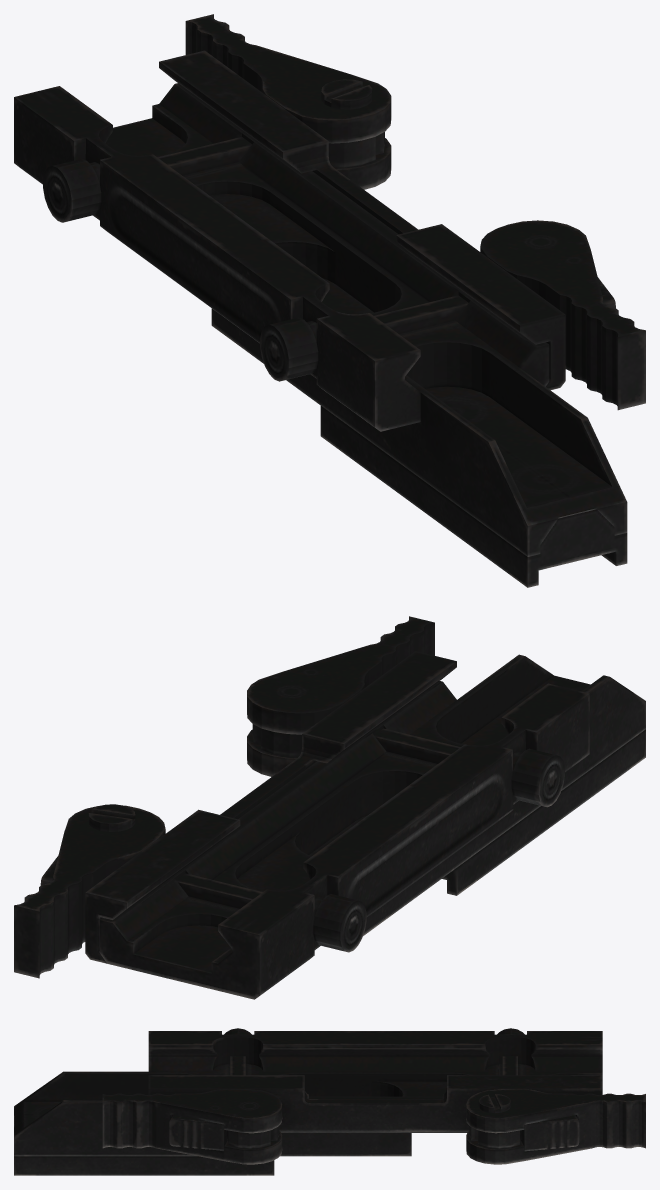
The picture shows the model from 3 angles, top to bottom: view 1: azimuth 30°, elevation 25°; view 2: azimuth 150°, elevation 25°; view 3: azimuth 270°, elevation 25°; orthographic projection. The views are drawn at different scales.
Visible parts, largest first — view 1: TW_63fc449f5bd61c6cf3784a88_PZ_Import; view 2: TW_63fc449f5bd61c6cf3784a88_PZ_Import; view 3: TW_63fc449f5bd61c6cf3784a88_PZ_Import.
Boxes of the visible parts, x1,y1,x2,y2 form: TW_63fc449f5bd61c6cf3784a88_PZ_Import: (14,14,645,587); TW_63fc449f5bd61c6cf3784a88_PZ_Import: (14,616,645,999); TW_63fc449f5bd61c6cf3784a88_PZ_Import: (14,1028,645,1175).
Bounding box in the file's own units: 0.0294 × 0.0809 × 0.015.
Materials: 1 (1 with a texture image).
